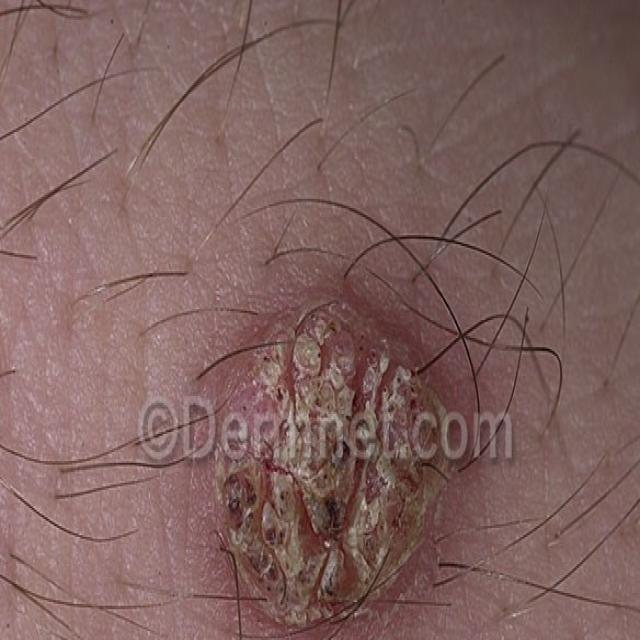Warts: (205, 294, 439, 623)
